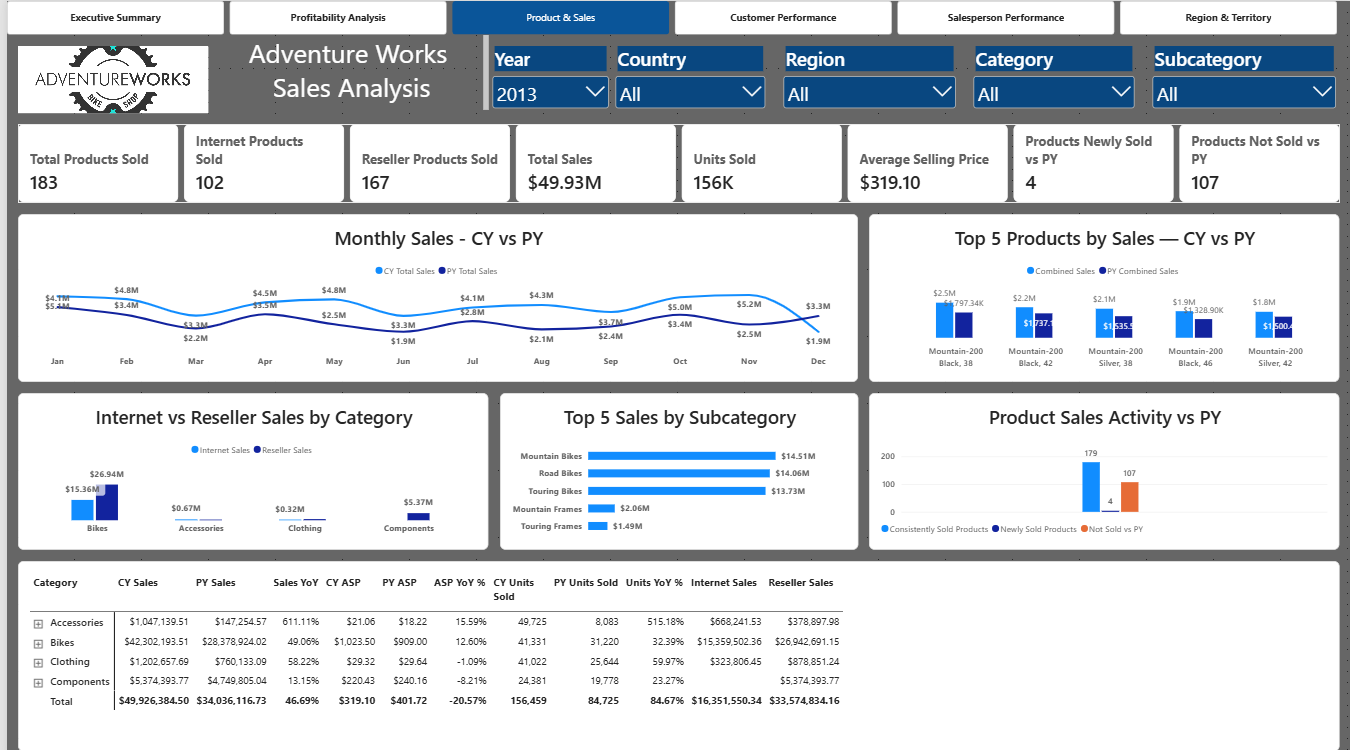

The page's visual inventory and layout, read from the dashboard file:
{"tool":"powerbi","page":{"name":"Product & Sales","canvas":[1920,1080],"ordinal":2},"visuals":[{"type":"textbox","box":[304,48,384,112],"z":0},{"type":"image","box":[16,64,272,96],"z":1000},{"type":"slicer","fields":{"Values":["DimDate.CalendarYear"]},"box":[688,64,176,96],"z":2000},{"type":"slicer","fields":{"Values":["DimSalesTerritory.SalesTerritoryRegion"]},"box":[1104,64,256,96],"z":3000},{"type":"slicer","fields":{"Values":["DimProductCategory.EnglishProductCategoryName"]},"box":[1376,64,240,96],"z":4000},{"type":"slicer","fields":{"Values":["DimProductSubcategory.EnglishProductSubcategoryName"]},"box":[1632,64,272,96],"z":5000},{"type":"slicer","fields":{"Values":["DimSalesTerritory.SalesTerritoryCountry"]},"box":[864,64,224,96],"z":6000},{"type":"lineChart","title":"Monthly Sales - CY vs PY","fields":{"Y":["_Measures.Combined Sales","_Measures.PY Combined Sales"],"Category":["DimDate.Short Month Name"]},"box":[16,304,1200,240],"z":7000},{"type":"pivotTable","fields":{"Values":["_Measures.Combined Sales","_Measures.PY Combined Sales","_Measures.Combined Sales YoY %","_Measures.Combined Average Selling Price","_Measures.PY Combined Average Selling Price","_Measures.Combined Average Selling Price YoY %","_Measures.Combined Units Sold","_Measures.PY Combined Units Sold","_Measures.Combined Units YoY %","_Measures.Internet Sales","_Measures.Reseller Sales"],"Rows":["DimProductCategory.EnglishProductCategoryName","DimProductSubcategory.EnglishProductSubcategoryName","DimProduct.EnglishProductName"]},"box":[16,800,1888,272],"z":8000},{"type":"cardVisual","fields":{"Data":["_Measures.Total Products Sold","_Measures.Internet Products Sold","_Measures.Reseller Products Sold","_Measures.Combined Sales","_Measures.Combined Units Sold","_Measures.Combined Average Selling Price","_Measures.Combined Newly Sold Products","_Measures.Combined Discontinued Products"]},"box":[16,176,1888,112],"z":9000},{"type":"lineClusteredColumnComboChart","title":"Internet vs Reseller Sales by Category","fields":{"Category":["DimProductCategory.EnglishProductCategoryName"],"Y":["_Measures.Internet Sales","_Measures.Reseller Sales"]},"box":[16,560,672,224],"z":10000},{"type":"clusteredColumnChart","title":"Product Sales Activity vs PY","fields":{"Y":["_Measures.Combined Consistently Sold Products","_Measures.Combined Newly Sold Products","_Measures.Combined Discontinued Products"]},"box":[1232,560,672,224],"z":11000},{"type":"clusteredColumnChart","title":"Top 5 Products by Sales — CY vs PY","fields":{"Category":["DimProduct.EnglishProductName"],"Y":["_Measures.Combined Sales","_Measures.PY Combined Sales"]},"box":[1232,304,672,240],"z":12000},{"type":"barChart","title":"Top 5 Sales by Subcategory","fields":{"Category":["DimProductSubcategory.EnglishProductSubcategoryName"],"Y":["_Measures.Combined Sales"]},"box":[704,560,512,224],"z":13000},{"type":"pageNavigator","box":[0,0,1904,48],"z":14000}]}

Visuals, with their boxes in screenshot pixels (x1, y1, x2, y2), scaled from the page's 1920x1080 canvas onto the 1350x750 screenshot:
textbox: detection(214, 33, 484, 111)
image: detection(11, 44, 202, 111)
slicer - DimDate.CalendarYear: detection(484, 44, 608, 111)
slicer - DimSalesTerritory.SalesTerritoryRegion: detection(776, 44, 956, 111)
slicer - DimProductCategory.EnglishProductCategoryName: detection(968, 44, 1136, 111)
slicer - DimProductSubcategory.EnglishProductSubcategoryName: detection(1148, 44, 1339, 111)
slicer - DimSalesTerritory.SalesTerritoryCountry: detection(608, 44, 765, 111)
"Monthly Sales - CY vs PY" lineChart: detection(11, 211, 855, 378)
pivotTable - _Measures.Combined Sales x _Measures.PY Combined Sales: detection(11, 556, 1339, 744)
cardVisual - _Measures.Total Products Sold x _Measures.Internet Products Sold: detection(11, 122, 1339, 200)
"Internet vs Reseller Sales by Category" lineClusteredColumnComboChart: detection(11, 389, 484, 544)
"Product Sales Activity vs PY" clusteredColumnChart: detection(866, 389, 1339, 544)
"Top 5 Products by Sales — CY vs PY" clusteredColumnChart: detection(866, 211, 1339, 378)
"Top 5 Sales by Subcategory" barChart: detection(495, 389, 855, 544)
pageNavigator: detection(0, 0, 1339, 33)
